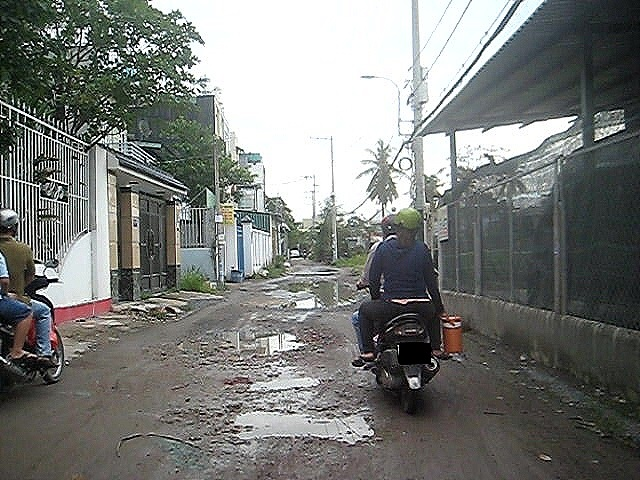hole: (166, 404, 382, 447), (145, 321, 332, 366), (215, 366, 342, 399), (264, 278, 356, 309), (291, 267, 345, 276)
